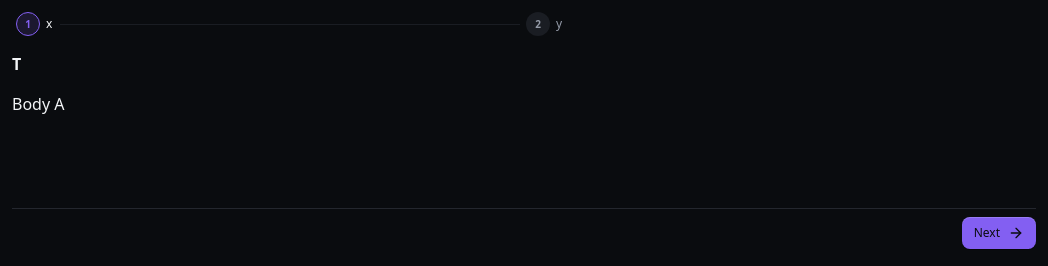
Test case: Wizard — onExit hook › awaits onExit before advancing
Click the button "Next" at (999, 233), box [962,217,1036,249]
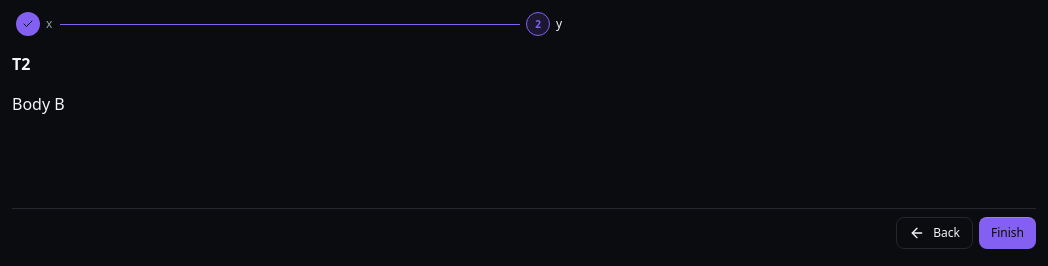
Expected: the text "Body B" is shown, [12,93,65,115]
